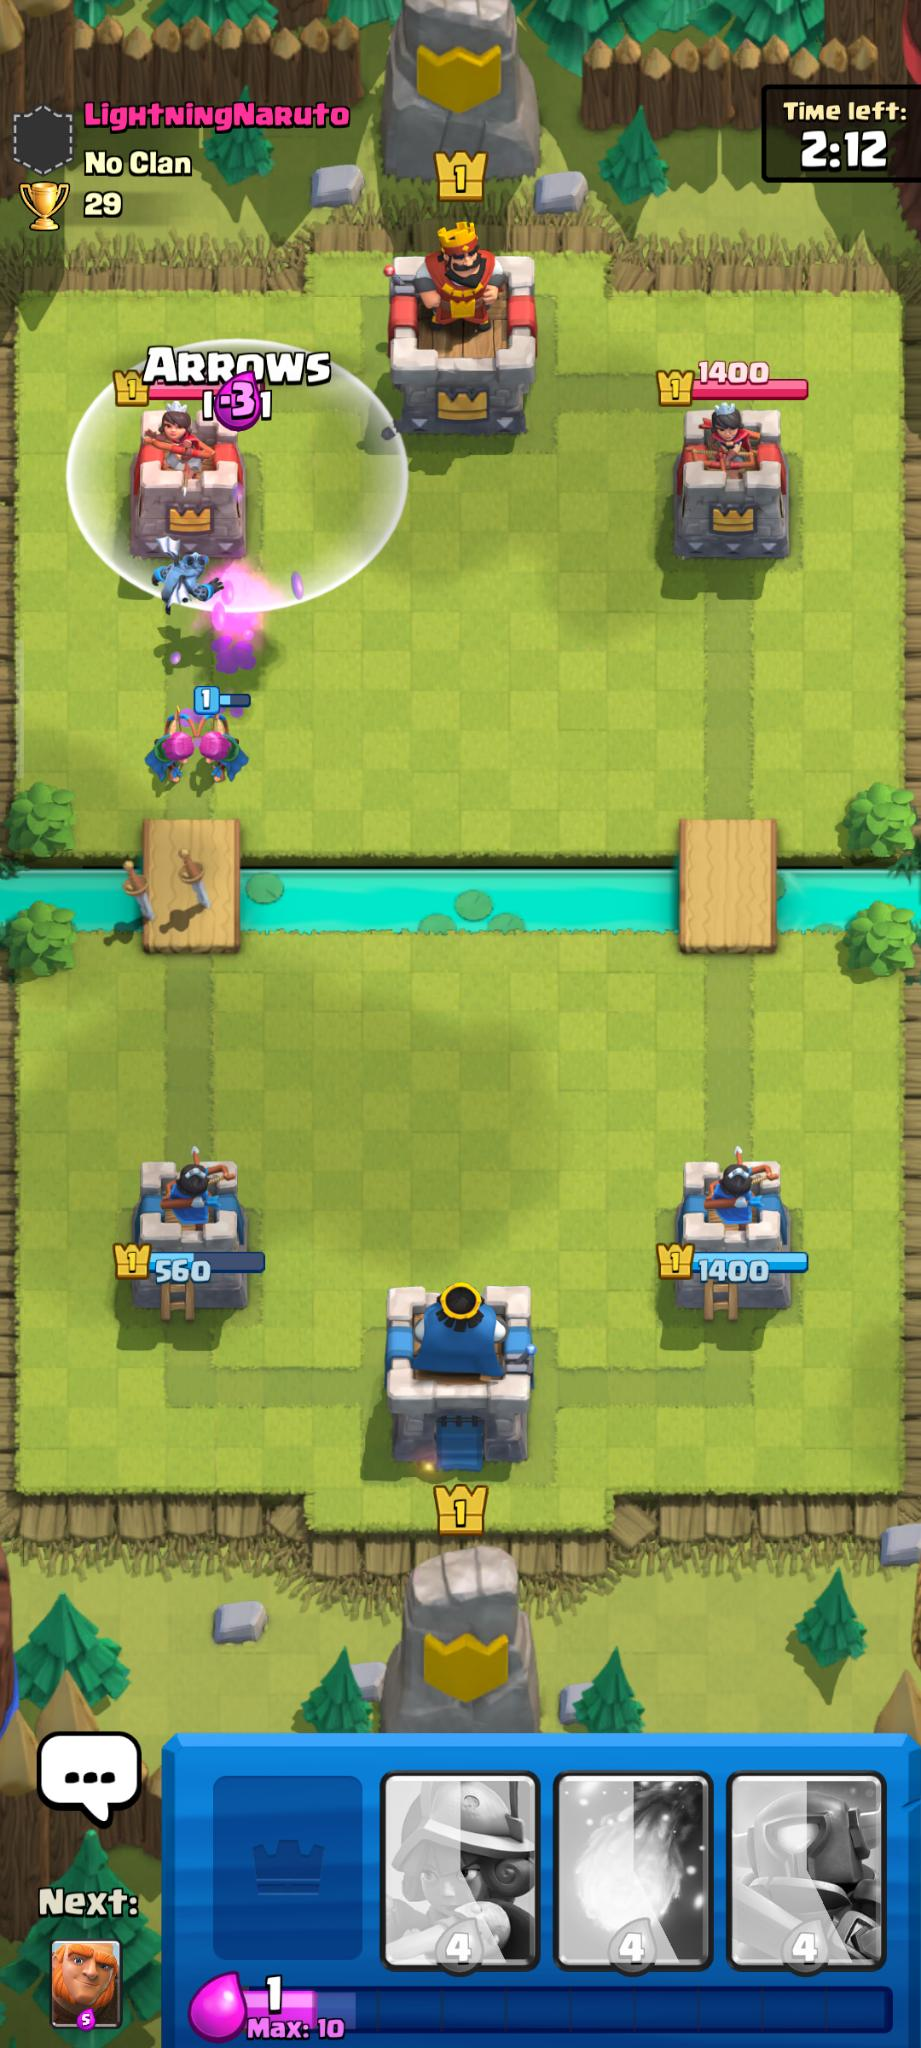archere: (195, 697, 243, 786), (149, 717, 197, 793)
gargouille: (153, 558, 191, 615)
